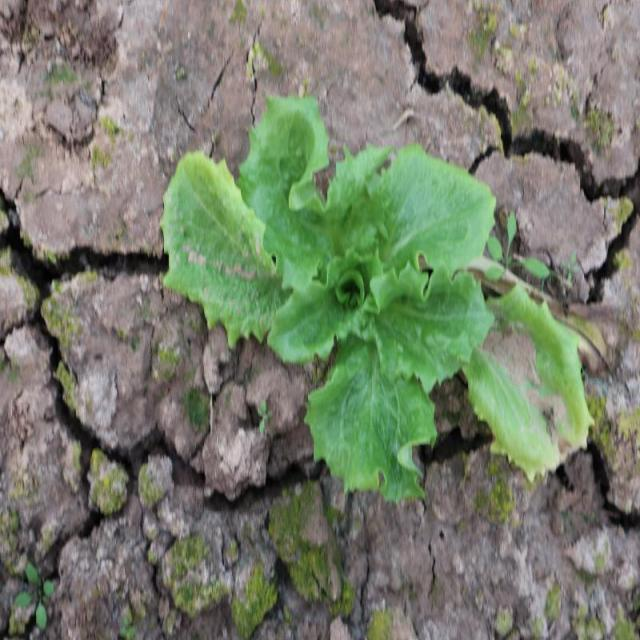crop: (162, 91, 594, 510)
